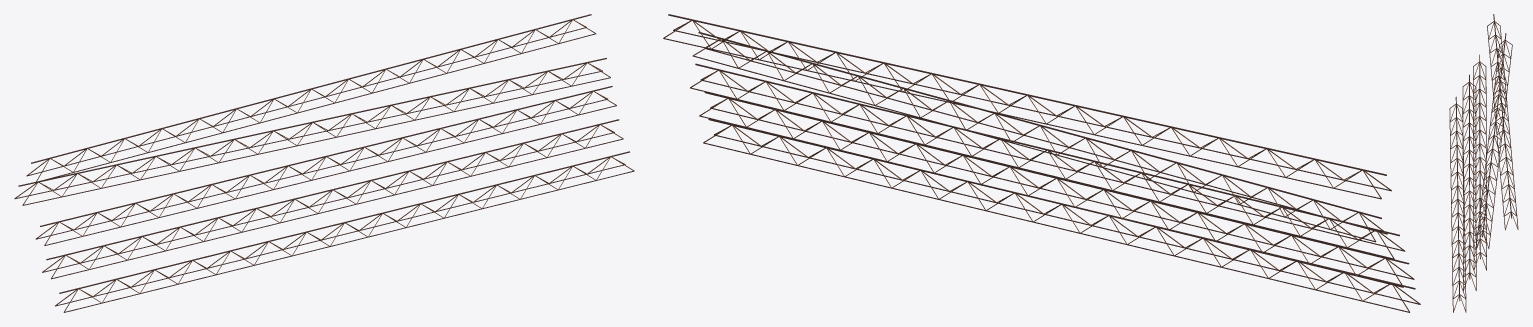
File: EST-LAJ-002_anim.glb
3 views of the same model, side by side, from view 1: azimuth 30°, elevation 25°; view 2: azimuth 150°, elevation 25°; view 3: azimuth 270°, elevation 25° (orthographic). The views are drawn at different scales.
Visible parts, largest first — view 1: EST-LAJ-002_anim3, EST-LAJ-002_anim1, EST-LAJ-002_anim2, EST-LAJ-002_anim0, EST-LAJ-002_anim4; view 2: EST-LAJ-002_anim4, EST-LAJ-002_anim2, EST-LAJ-002_anim1, EST-LAJ-002_anim3, EST-LAJ-002_anim0; view 3: EST-LAJ-002_anim4, EST-LAJ-002_anim1, EST-LAJ-002_anim0, EST-LAJ-002_anim2, EST-LAJ-002_anim3.
Boxes of the visible parts, <box> form: EST-LAJ-002_anim3: <box>14,58,610,205</box>; EST-LAJ-002_anim1: <box>42,119,623,279</box>; EST-LAJ-002_anim2: <box>35,86,616,245</box>; EST-LAJ-002_anim0: <box>55,151,634,312</box>; EST-LAJ-002_anim4: <box>26,14,596,182</box>; EST-LAJ-002_anim4: <box>663,14,1391,199</box>; EST-LAJ-002_anim2: <box>690,63,1405,259</box>; EST-LAJ-002_anim1: <box>699,92,1414,287</box>; EST-LAJ-002_anim3: <box>692,32,1387,242</box>; EST-LAJ-002_anim0: <box>703,119,1420,312</box>; EST-LAJ-002_anim4: <box>1487,14,1518,230</box>; EST-LAJ-002_anim1: <box>1462,74,1476,290</box>; EST-LAJ-002_anim0: <box>1449,96,1466,312</box>; EST-LAJ-002_anim2: <box>1473,54,1486,270</box>; EST-LAJ-002_anim3: <box>1475,33,1512,248</box>.
Bounding box in the file's own units: 3.04 × 0.6445 × 0.4288.
Materials: 1 (1 with a texture image).
